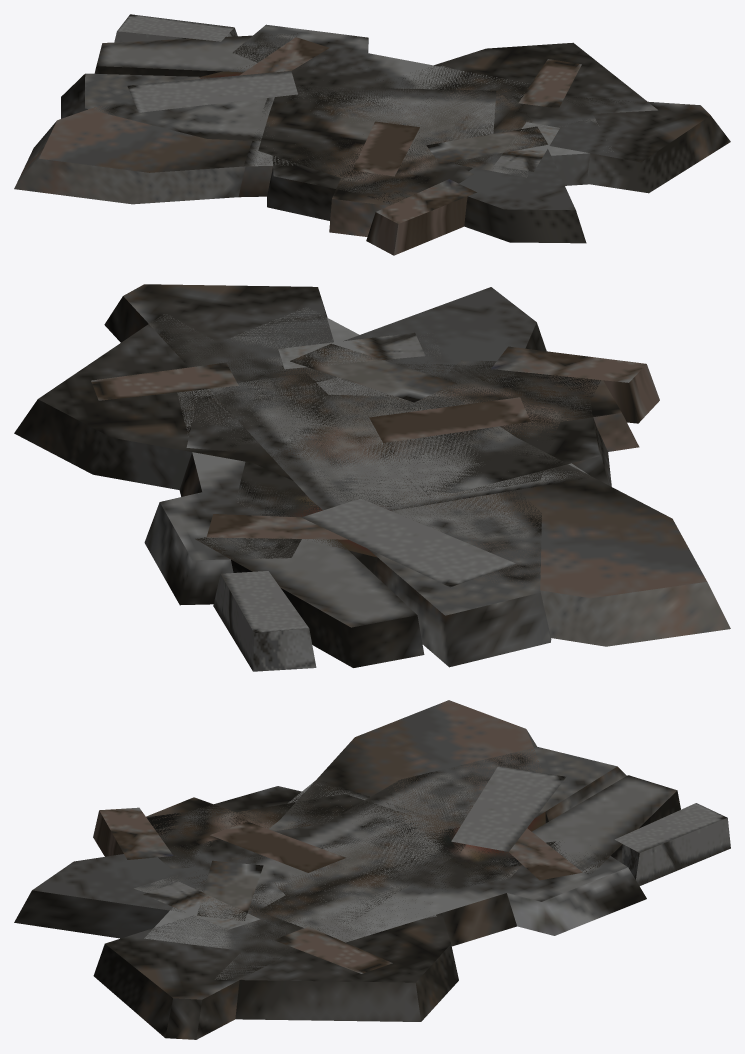
Rendered from bz_trash_03.fbx.
The picture shows the model from 3 angles, top to bottom: view 1: azimuth 30°, elevation 25°; view 2: azimuth 150°, elevation 25°; view 3: azimuth 270°, elevation 25°; orthographic projection. The views are drawn at different scales.
Visible parts, largest first — view 1: bz_junk_04, bz_junk_01, bz_junk_03, bz_junk_08, bz_junk_02, bz_junk_05, bz_junk_06, bz_junk_07; view 2: bz_junk_04, bz_junk_01, bz_junk_03, bz_junk_05, bz_junk_08, bz_junk_02, bz_junk_06, bz_junk_07; view 3: bz_junk_04, bz_junk_01, bz_junk_03, bz_junk_08, bz_junk_07, bz_junk_06, bz_junk_05, bz_junk_02.
Boxes of the visible parts, left/top/right/bottom form: bz_junk_04: left=61, top=33, right=730, bottom=243; bz_junk_01: left=14, top=42, right=657, bottom=204; bz_junk_03: left=233, top=24, right=528, bottom=236; bz_junk_08: left=114, top=14, right=581, bottom=255; bz_junk_02: left=238, top=86, right=496, bottom=197; bz_junk_05: left=199, top=65, right=531, bottom=220; bz_junk_06: left=240, top=37, right=547, bottom=176; bz_junk_07: left=127, top=71, right=559, bottom=171; bz_junk_04: left=104, top=284, right=551, bottom=667; bz_junk_01: left=14, top=308, right=730, bottom=646; bz_junk_03: left=144, top=360, right=639, bottom=605; bz_junk_05: left=186, top=363, right=611, bottom=574; bz_junk_08: left=91, top=346, right=659, bottom=671; bz_junk_02: left=220, top=377, right=589, bottom=510; bz_junk_06: left=206, top=343, right=530, bottom=539; bz_junk_07: left=278, top=332, right=515, bottom=587; bz_junk_04: left=14, top=747, right=680, bottom=1039; bz_junk_01: left=134, top=700, right=541, bottom=1021; bz_junk_03: left=146, top=794, right=646, bottom=946; bz_junk_08: left=93, top=803, right=730, bottom=973; bz_junk_07: left=143, top=766, right=566, bottom=929; bz_junk_06: left=197, top=821, right=582, bottom=920; bz_junk_05: left=146, top=786, right=548, bottom=931; bz_junk_02: left=253, top=780, right=454, bottom=923.
Size of the model in its own units: 2.31 by 0.1043 by 2.18.
